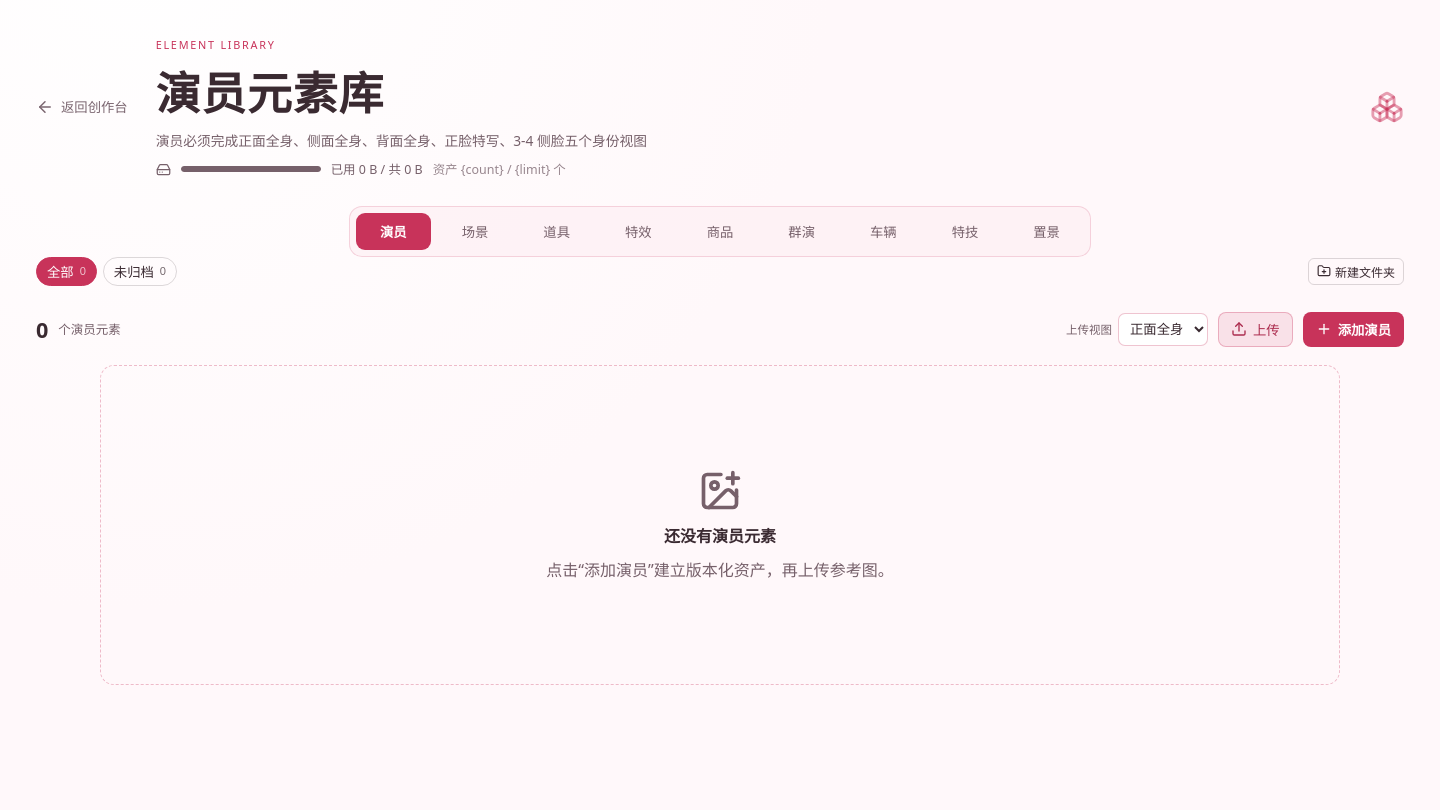
Test: ElementLibraryPage › provides every concrete page and keeps effect assets image-only
Expected: the heading "演员元素库" is shown, x1=156 y1=62 x2=384 y2=123
Expected: the button "添加演员" is shown, x1=1303 y1=312 x2=1404 y2=346
Click the tab "场景" at (475, 231), box x1=438 y1=212 x2=512 y2=250
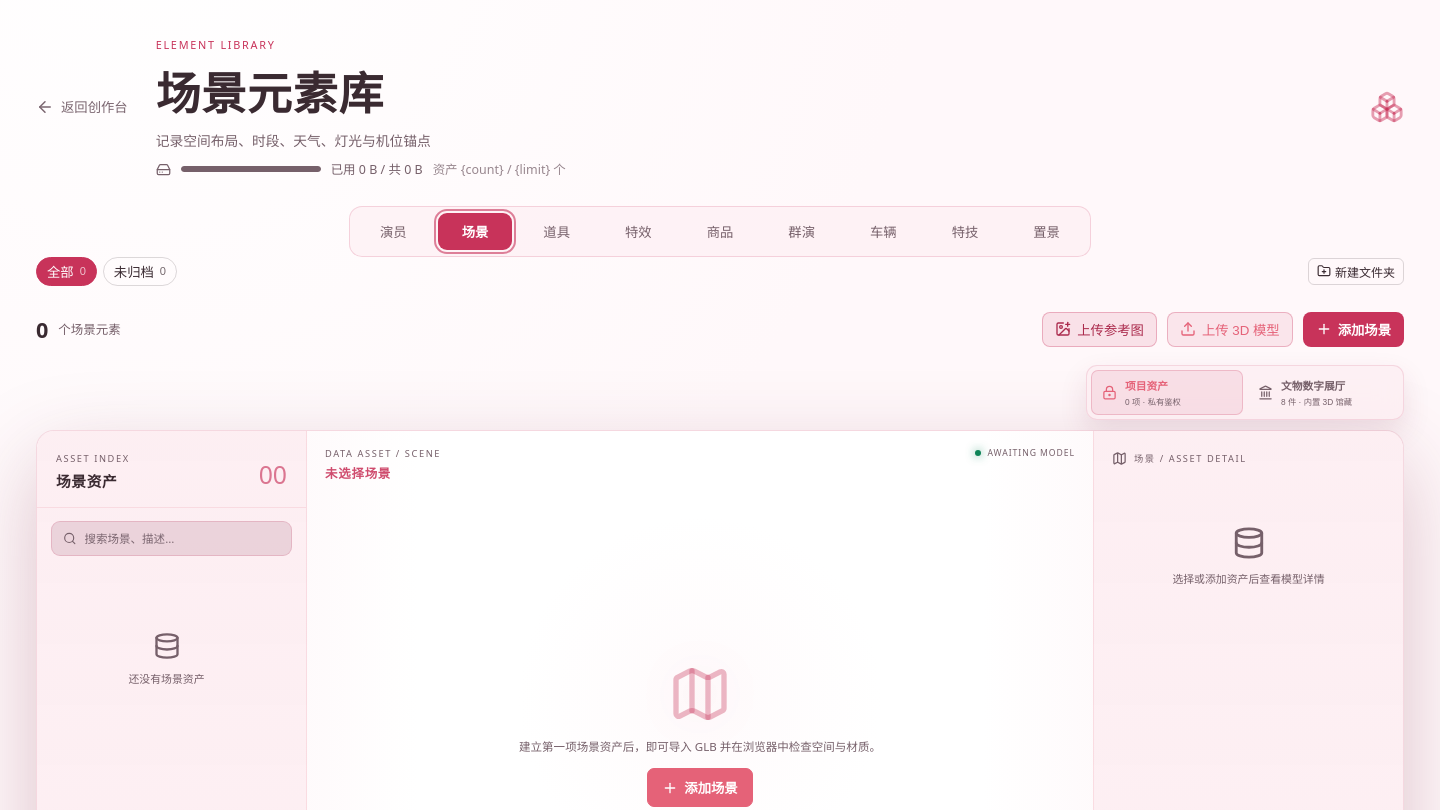
Expected: the heading "场景元素库" is shown, x1=156 y1=62 x2=384 y2=123
Expected: the 1st button "添加场景" is shown, x1=1303 y1=312 x2=1404 y2=346
Click the tab "特效" at (638, 231), box x1=601 y1=212 x2=676 y2=250
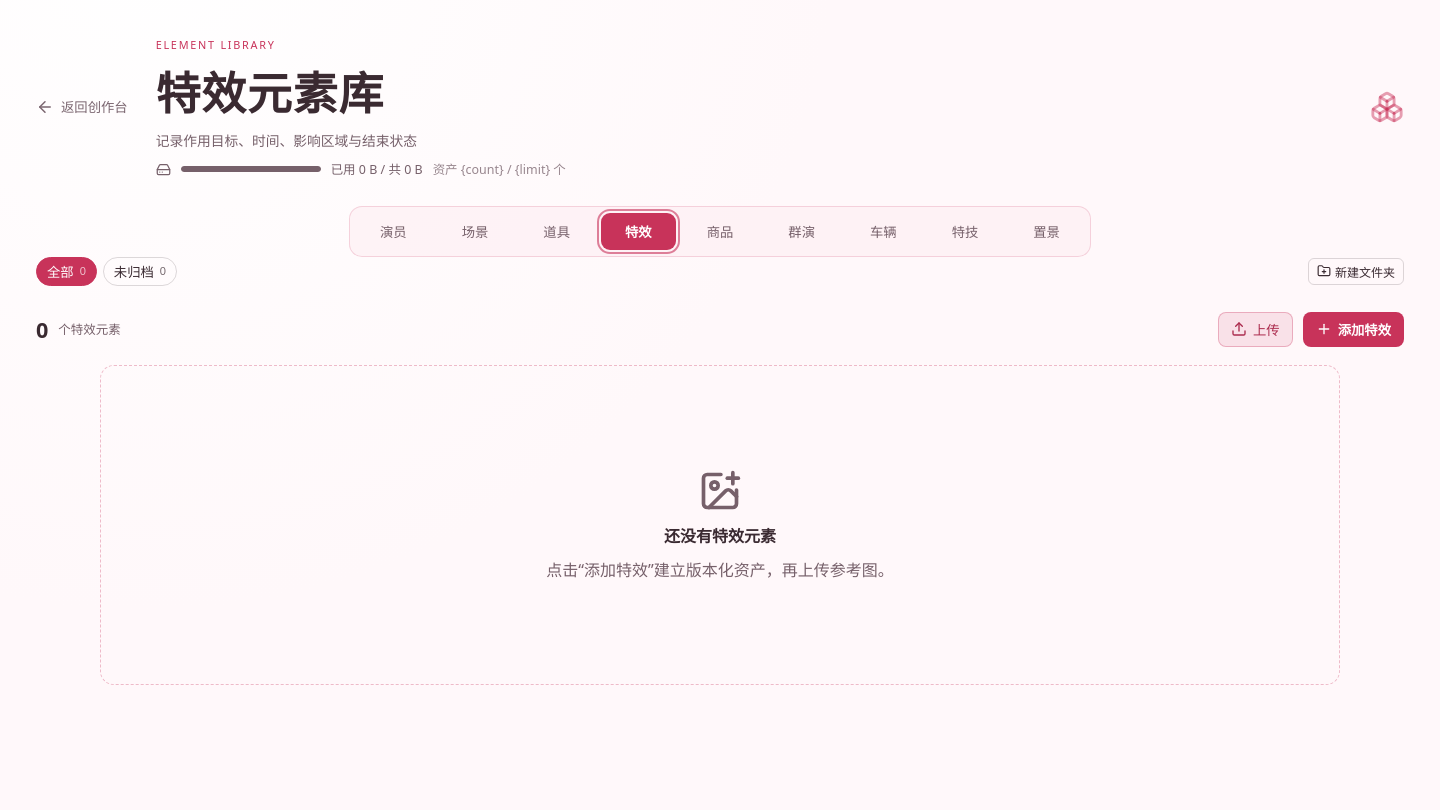
Expected: the heading "特效元素库" is shown, x1=156 y1=62 x2=384 y2=123
Expected: the button "添加特效" is shown, x1=1303 y1=312 x2=1404 y2=346
Expected: the button "上传 3D 模型" is gone
